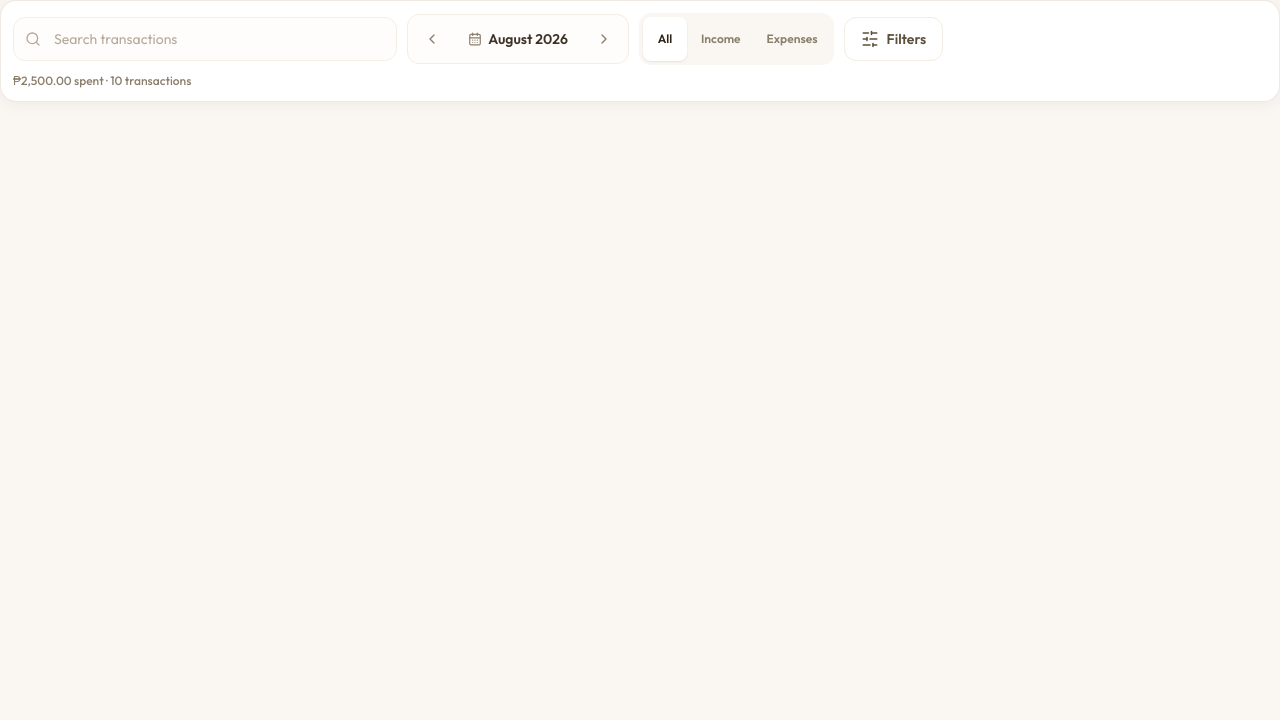
Test: TransactionFiltersBar › opens advanced filters in a dialog
Click the button "Filters" at (894, 39), box [844, 17, 943, 61]
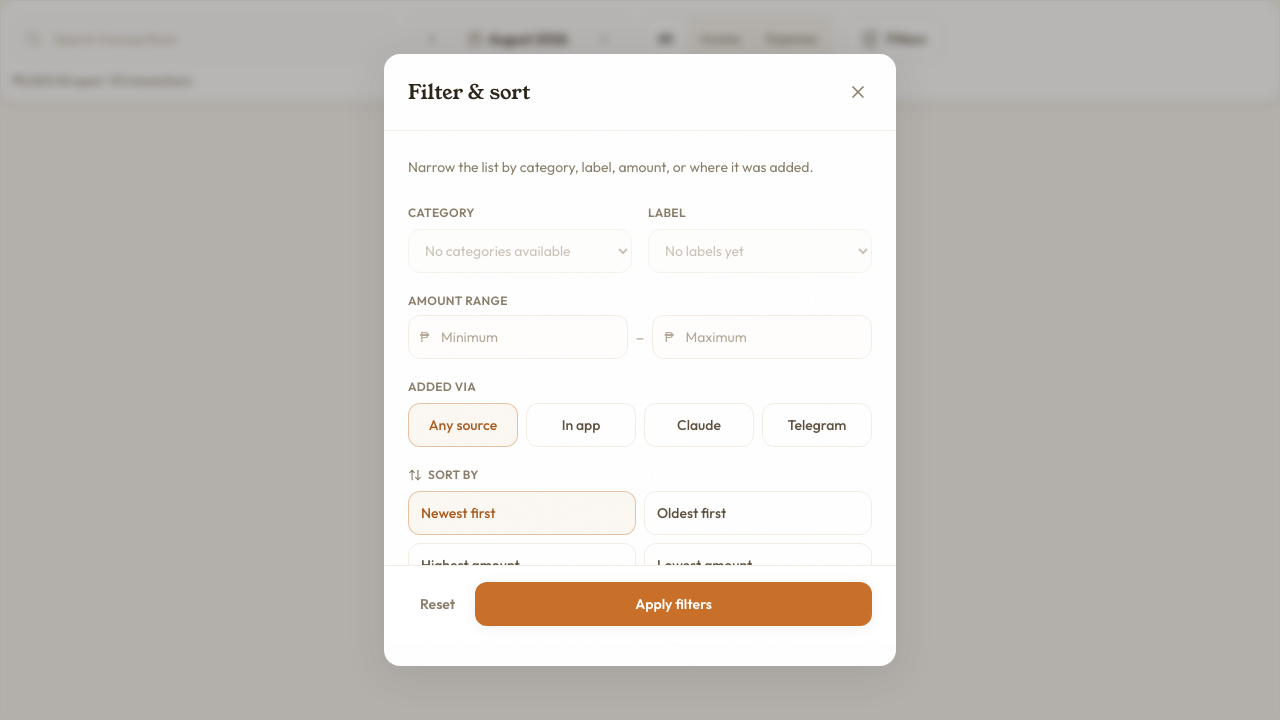
Check: the button "Filters" is expanded, box [844, 17, 943, 61]
Check: the text "Amount range" is shown, box [408, 293, 508, 309]
Check: the text "Added via" is shown, box [408, 379, 476, 395]
